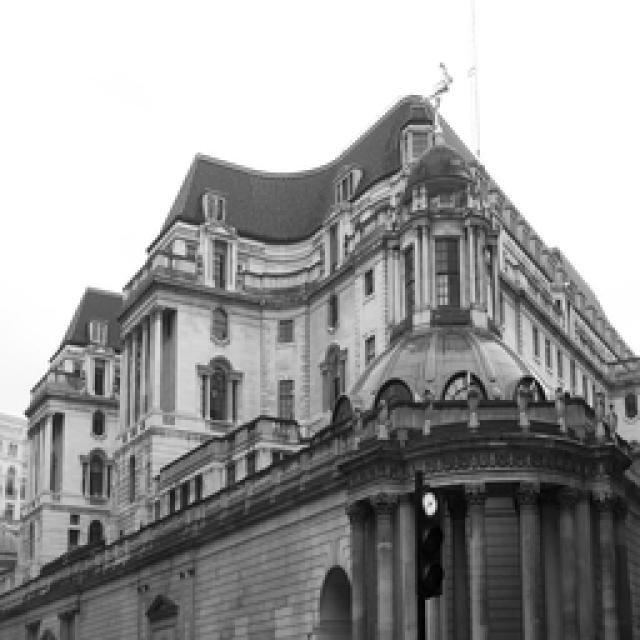Abbey: (253, 119, 575, 612)
